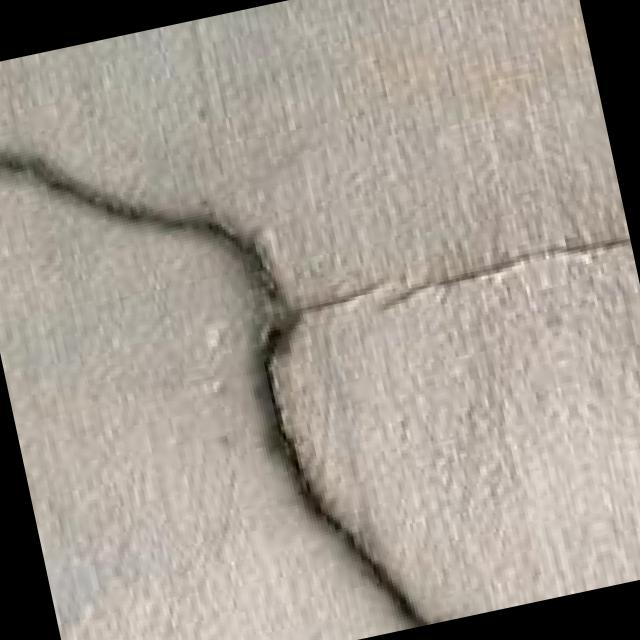crack: (0, 43, 479, 640)
